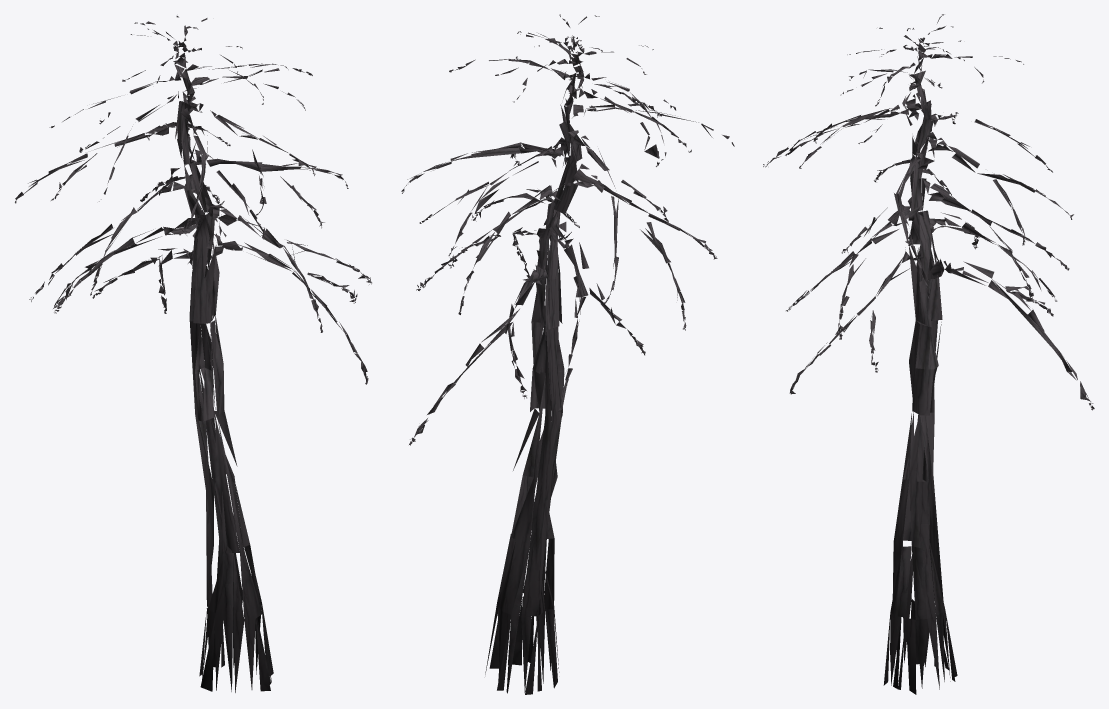
The model's file is kering-2.glb.
3 views of the same model, side by side, from view 1: azimuth 30°, elevation 25°; view 2: azimuth 150°, elevation 25°; view 3: azimuth 270°, elevation 25° (orthographic). The views are drawn at different scales.
Visible parts, largest first — view 1: DeadTree_3; view 2: DeadTree_3; view 3: DeadTree_3.
Part boxes in pixels (x1,y1,x2,y2): DeadTree_3: [15, 16, 371, 692]; DeadTree_3: [401, 14, 734, 694]; DeadTree_3: [763, 14, 1094, 694].
Size of the model in its own units: 3.35 by 7.02 by 3.38.
1 material, 1 textured.
